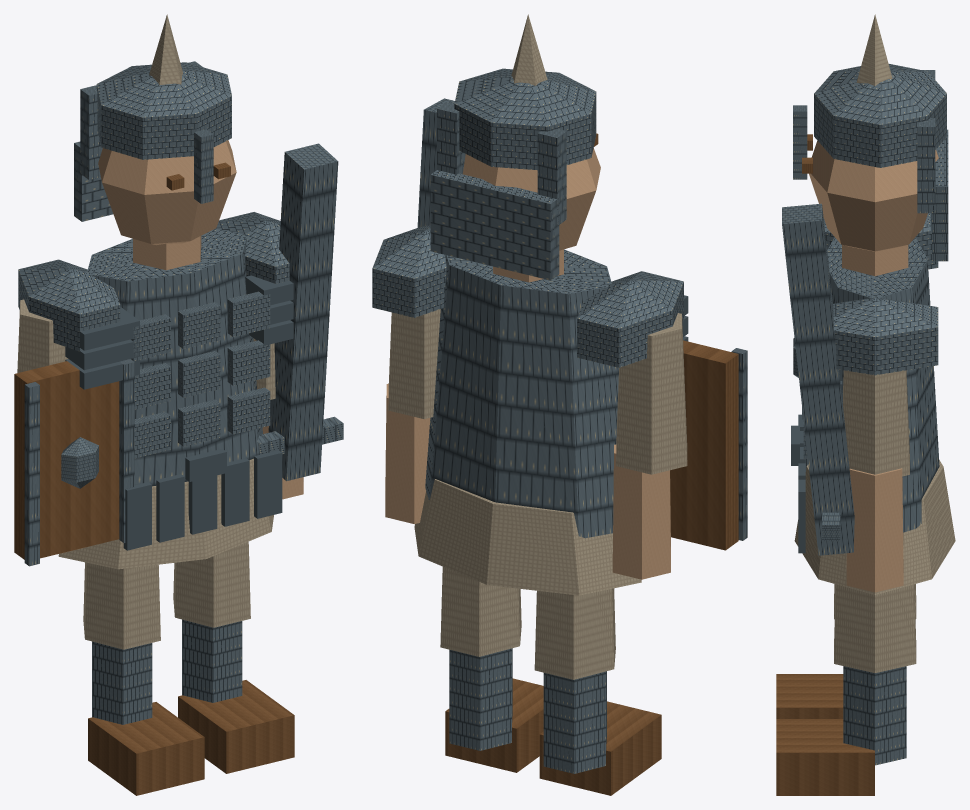
The model's file is unit-SWORD-lod0.glb.
The picture shows the model from 3 angles, left to right: view 1: azimuth 30°, elevation 25°; view 2: azimuth 150°, elevation 25°; view 3: azimuth 270°, elevation 25°; orthographic projection. The views are drawn at different scales.
Size of the model in its own units: 0.209 by 0.448 by 0.098.
1 material, 1 textured.
